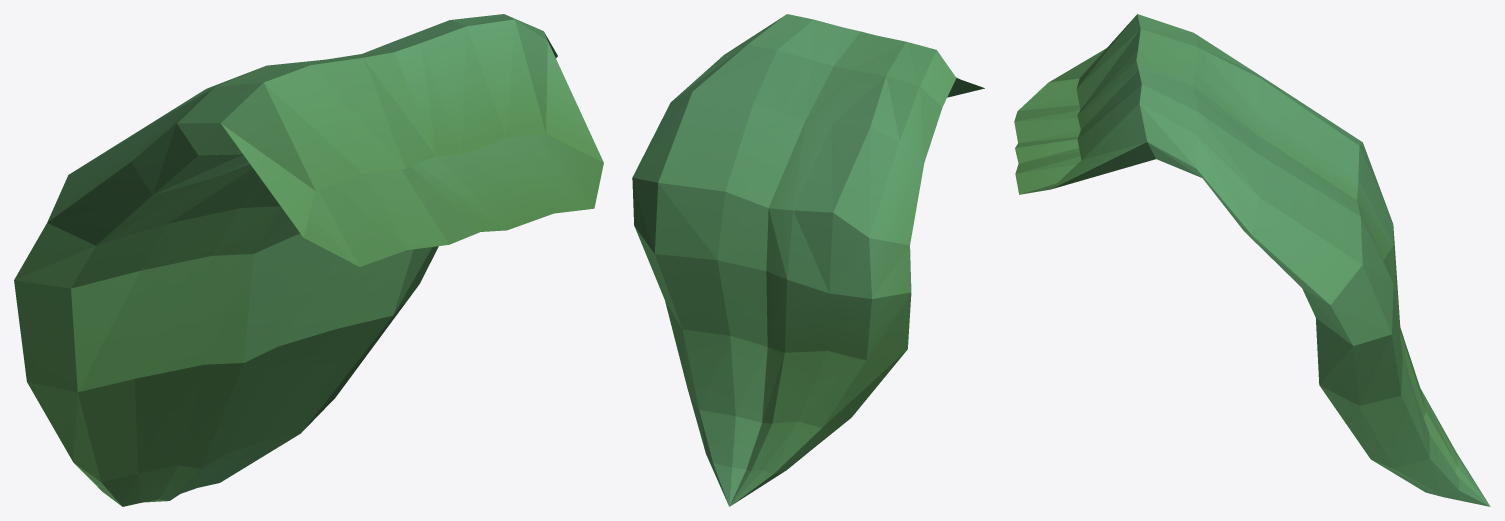
Rendered from leef_04.FBX.
The picture shows the model from 3 angles, left to right: view 1: azimuth 30°, elevation 25°; view 2: azimuth 150°, elevation 25°; view 3: azimuth 270°, elevation 25°; orthographic projection. The views are drawn at different scales.
Visible parts, largest first — view 1: leef_04; view 2: leef_04; view 3: leef_04.
Boxes of the visible parts, box(x1,y1,x2,y2) form: leef_04: box(14, 14, 603, 506); leef_04: box(632, 14, 984, 506); leef_04: box(1014, 14, 1490, 506).
Bounding box in the file's own units: 3.8 × 4.69 × 4.43.
